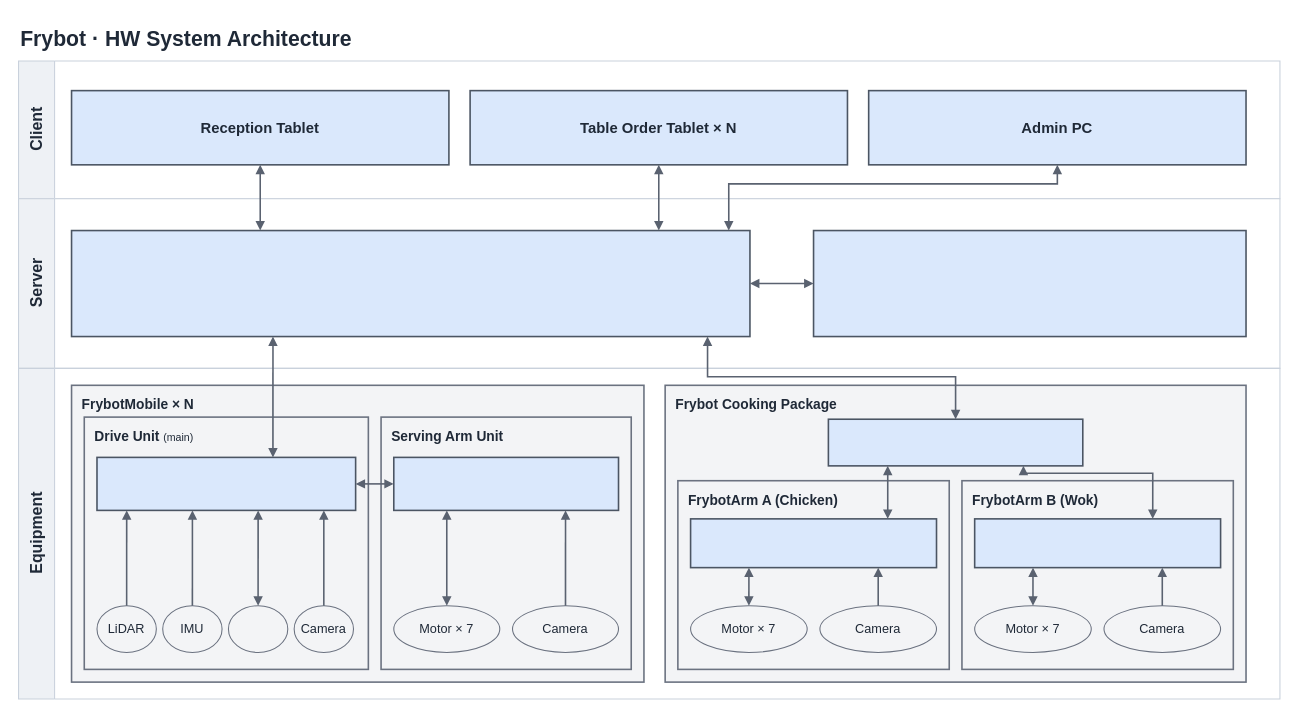
The diagram is 1298 pixels wide and 718 high, and some of its shapes have lost their labels. The shapes that lost their labels are listed below. From the top down, each one's centre as x and y in pixels, then its label:
At (x=410, y=283): "Main Server".
At (x=1029, y=283): "AI Server".
At (x=955, y=442): "FrybotArmMasterBoard".
At (x=226, y=483): "FrybotMobileDriveBoard".
At (x=506, y=483): "FrybotMobileServingArmBoard".
At (x=813, y=543): "FrybotArmBoard (A)".
At (x=1097, y=543): "FrybotArmBoard (B)".
At (x=257, y=628): "Motor × 2".
